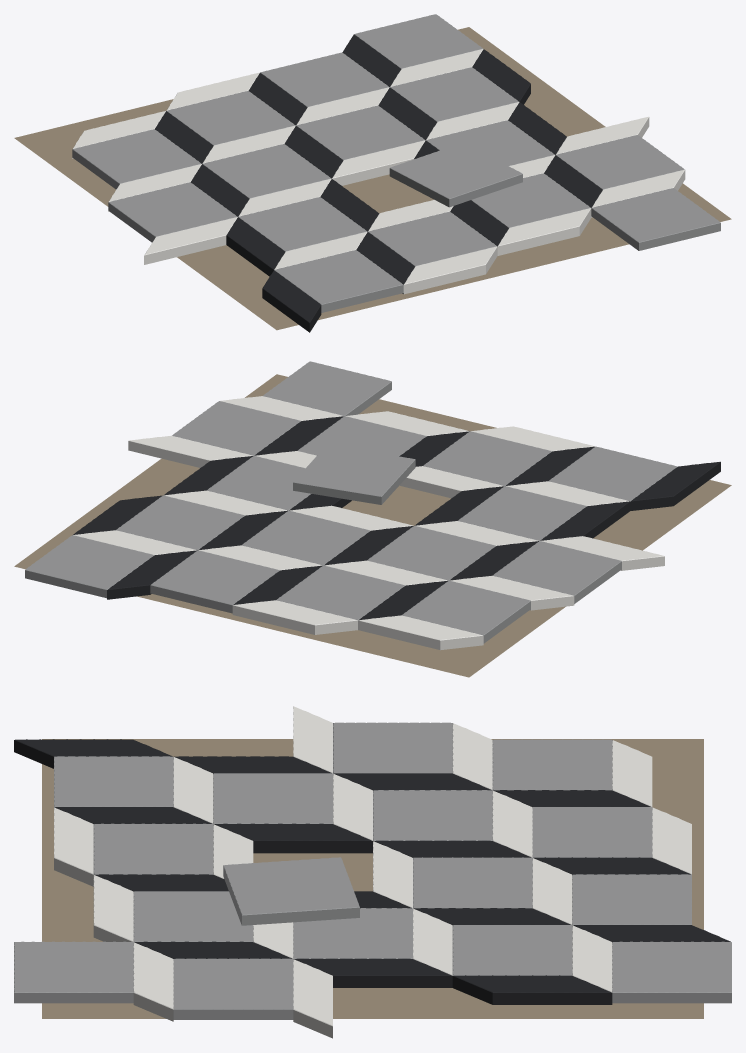
The model's file is terilgan.glb.
The picture shows the model from 3 angles, top to bottom: view 1: azimuth 30°, elevation 25°; view 2: azimuth 150°, elevation 25°; view 3: azimuth 270°, elevation 25°; orthographic projection. The views are drawn at different scales.
Visible parts, largest first — view 1: qum, t.025, t.044, t.009, t.003, t.006, t.012, t.040, t.022, t.031, t.043, t.028 (+36 smaller); view 2: qum, t.025, t.031, t.043, t.003, t.006, t.044, t.028, t.022, t.018, t.012, t.040 (+37 smaller); view 3: qum, t.025, t.046, t.043, t.044, t.006, t.003, t.022, t.028, t.018, t.040, t.012 (+37 smaller).
Boxes of the visible parts, left/top/right/bottom form: qum: left=14, top=27, right=731, bottom=330; t.025: left=389, top=142, right=522, bottom=207; t.044: left=591, top=188, right=720, bottom=250; t.009: left=274, top=250, right=403, bottom=312; t.003: left=108, top=182, right=237, bottom=242; t.006: left=72, top=129, right=201, bottom=189; t.012: left=238, top=197, right=367, bottom=251; t.040: left=390, top=67, right=518, bottom=121; t.022: left=368, top=211, right=496, bottom=266; t.031: left=260, top=52, right=389, bottom=107; t.043: left=354, top=14, right=482, bottom=68; t.028: left=296, top=105, right=424, bottom=160; qum: left=14, top=374, right=731, bottom=677; t.025: left=293, top=445, right=415, bottom=504; t.031: left=150, top=550, right=279, bottom=613; t.043: left=25, top=535, right=153, bottom=598; t.003: left=492, top=541, right=621, bottom=603; t.006: left=402, top=580, right=530, bottom=643; t.044: left=263, top=361, right=391, bottom=416; t.028: left=241, top=511, right=370, bottom=565; t.022: left=423, top=431, right=551, bottom=486; t.018: left=276, top=565, right=404, bottom=620; t.012: left=458, top=486, right=586, bottom=540; t.040: left=116, top=495, right=244, bottom=550; qum: left=42, top=739, right=703, bottom=1018; t.025: left=223, top=857, right=359, bottom=925; t.046: left=173, top=958, right=293, bottom=1019; t.043: left=612, top=941, right=731, bottom=1003; t.044: left=14, top=941, right=133, bottom=1003; t.006: left=492, top=739, right=612, bottom=790; t.003: left=333, top=722, right=452, bottom=773; t.022: left=93, top=823, right=213, bottom=874; t.028: left=413, top=857, right=532, bottom=908; t.018: left=532, top=807, right=652, bottom=857; t.040: left=452, top=925, right=572, bottom=975; t.012: left=213, top=773, right=332, bottom=824.
Bounding box in the file's own units: 1.9 × 0.067 × 1.8.
